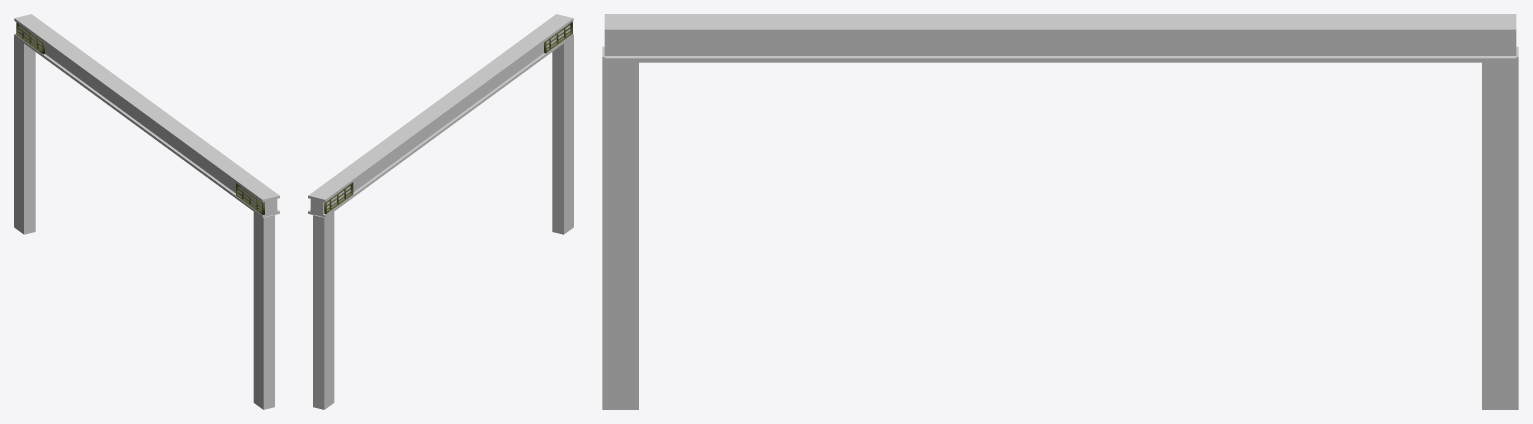
The model's file is theater_frame.fbx.
3 views of the same model, side by side, from view 1: azimuth 30°, elevation 25°; view 2: azimuth 150°, elevation 25°; view 3: azimuth 270°, elevation 25° (orthographic). The views are drawn at different scales.
Parts seen in each view (by area): view 1: beam, pillars, vent_01, vent_02; view 2: beam, pillars, vent_01, vent_02; view 3: beam, pillars.
Boxes of the visible parts, left/top/right/bottom form: beam: left=14, top=14, right=279, bottom=217; pillars: left=14, top=35, right=274, bottom=409; vent_01: left=16, top=22, right=44, bottom=54; vent_02: left=236, top=183, right=264, bottom=214; beam: left=308, top=14, right=573, bottom=217; pillars: left=313, top=35, right=573, bottom=409; vent_01: left=324, top=182, right=353, bottom=214; vent_02: left=544, top=21, right=572, bottom=53; beam: left=604, top=14, right=1516, bottom=62; pillars: left=602, top=46, right=1518, bottom=409.
Size of the model in its own units: 200 by 2315 by 4989.
